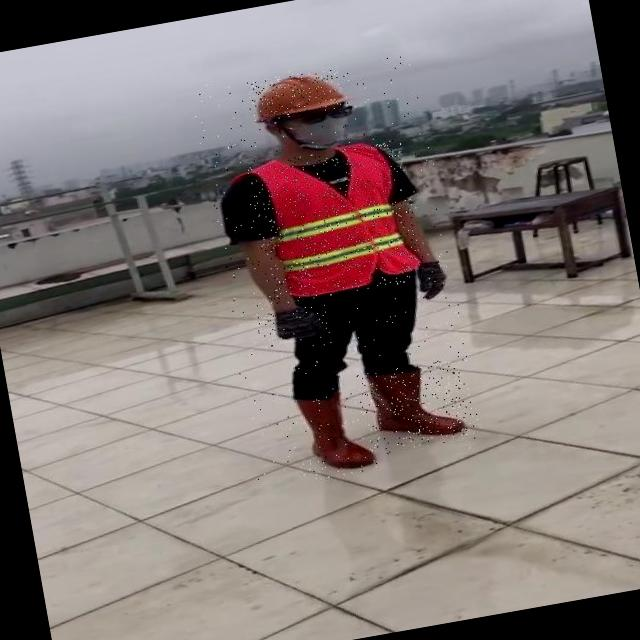boots: (356, 354, 476, 452), (296, 388, 379, 480)
gloves: (262, 284, 321, 348), (407, 246, 450, 304)
helmet: (247, 64, 351, 122)
vest: (246, 138, 424, 306)
